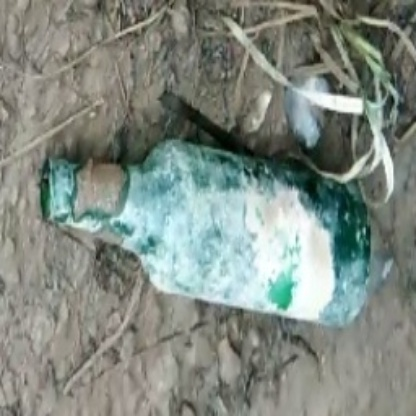bottle: (39, 139, 374, 328)
